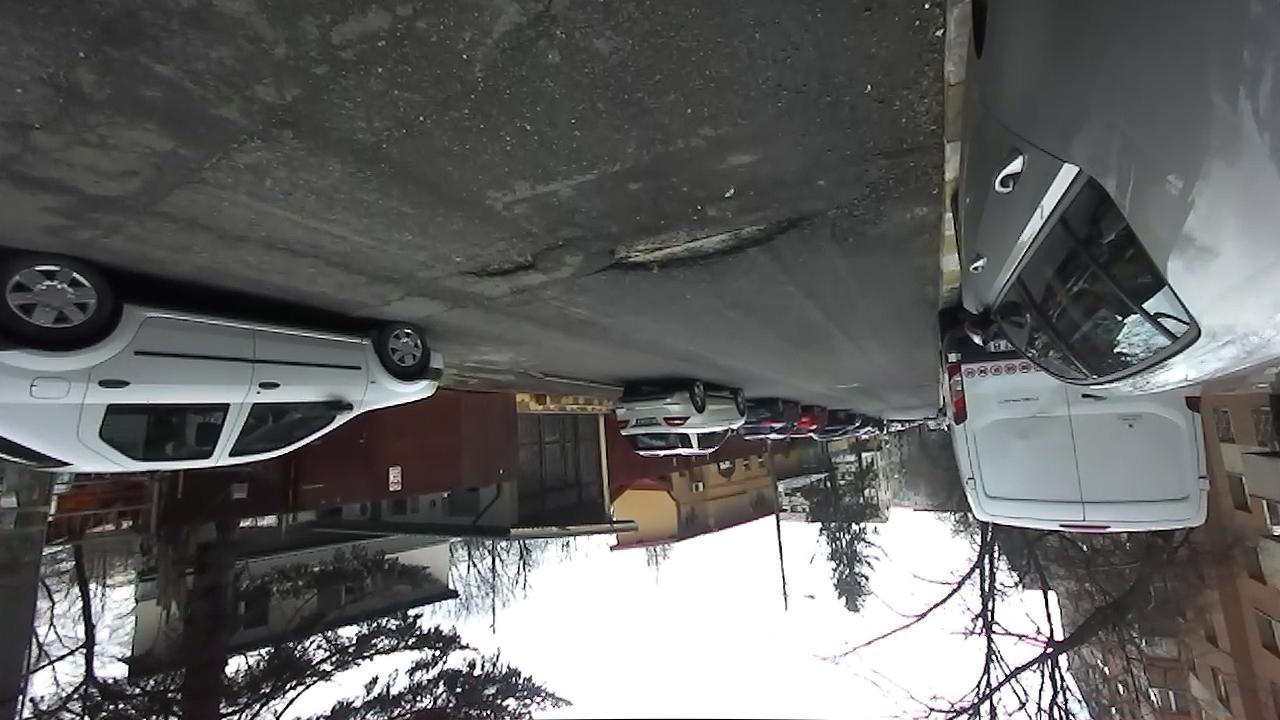pothole: (583, 210, 823, 281), (454, 240, 566, 282)
